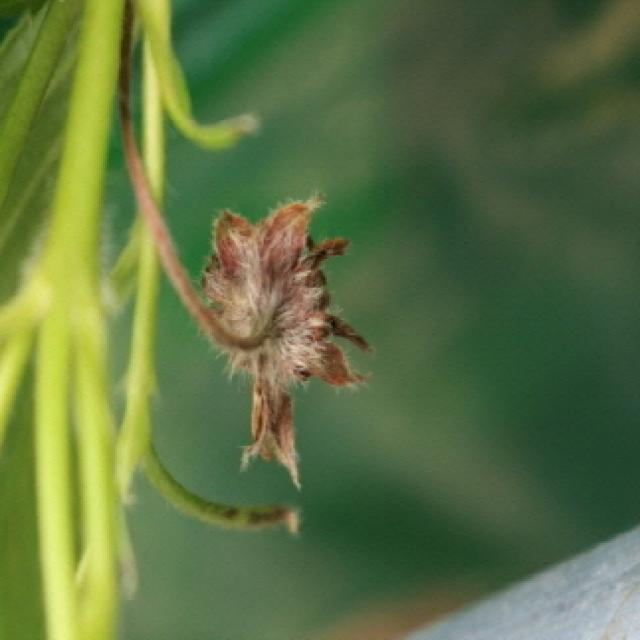Gray Mold: (195, 193, 374, 493)
